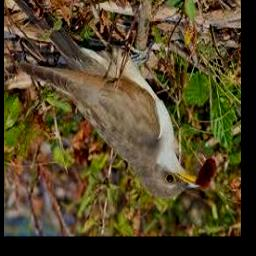Cuckoo: (6, 0, 200, 198)
